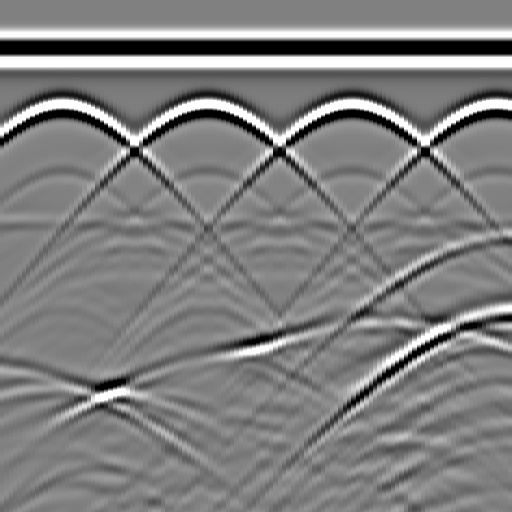grout_surface: (1, 209, 512, 239)
rebar: (41, 88, 81, 128), (185, 88, 225, 128), (329, 88, 369, 128), (473, 88, 512, 128)
rock_surface: (1, 320, 511, 394)
water_void: (485, 212, 512, 252)
